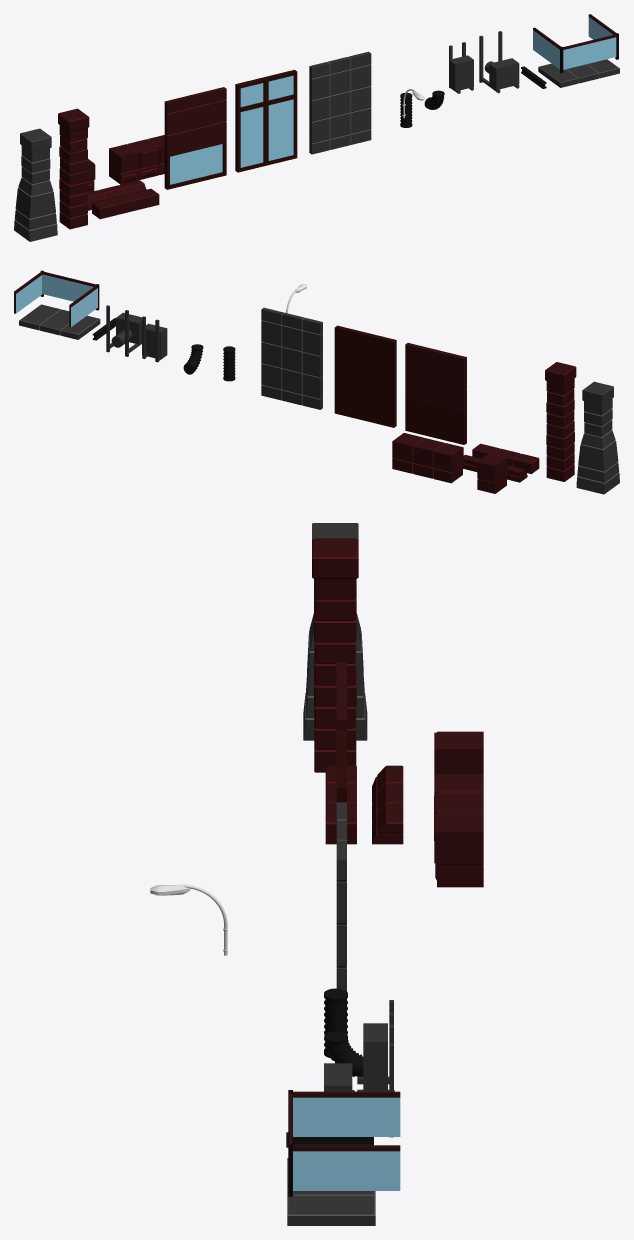
The model's file is Props_Modular.FBX.
The picture shows the model from 3 angles, top to bottom: view 1: azimuth 30°, elevation 25°; view 2: azimuth 150°, elevation 25°; view 3: azimuth 270°, elevation 25°; orthographic projection. The views are drawn at different scales.
Parts seen in each view (by area): view 1: Box011, Box010, Box014, Box006, Box007, Box161, Box113, Box158, Box159, Box008, Box157, Box009 (+1 smaller); view 2: Box011, Box010, Box014, Box006, Box007, Box113, Box161, Box159, Box158, Object003, Box157, Box008 (+3 smaller); view 3: Box161, Box007, Box113, Box159, Box006, Box009, Object003, Box014, Box157, Box008, Box158, Cylinder017 (+1 smaller).
Part boxes in pixels (x1,y1,x2,y2): Box011: (235, 69, 297, 172); Box010: (164, 87, 226, 189); Box014: (309, 51, 371, 154); Box006: (14, 128, 57, 241); Box007: (58, 108, 89, 229); Box161: (533, 14, 618, 73); Box113: (109, 135, 164, 184); Box158: (479, 31, 519, 93); Box159: (538, 59, 619, 87); Box008: (92, 188, 159, 219); Box157: (449, 42, 473, 93); Box009: (87, 180, 146, 210); Box011: (334, 325, 396, 427); Box010: (405, 343, 466, 444); Box014: (261, 307, 322, 409); Box006: (576, 381, 619, 494); Box007: (545, 362, 576, 481); Box113: (392, 433, 463, 483); Box161: (14, 270, 99, 327); Box159: (19, 304, 100, 339); Box158: (106, 305, 142, 356); Object003: (477, 453, 507, 493); Box157: (142, 316, 167, 362); Box008: (472, 443, 539, 473); Box161: (288, 1090, 400, 1196); Box007: (312, 538, 358, 772); Box113: (434, 774, 483, 887); Box159: (287, 1158, 375, 1225); Box006: (303, 523, 367, 740); Box009: (372, 765, 403, 844); Object003: (434, 731, 483, 775); Box014: (336, 802, 346, 1029); Box157: (357, 1000, 393, 1091); Box008: (325, 765, 356, 844); Box158: (324, 1025, 394, 1137); Cylinder017: (324, 988, 347, 1058).
Size of the model in its own units: 2836 by 502 by 702.
